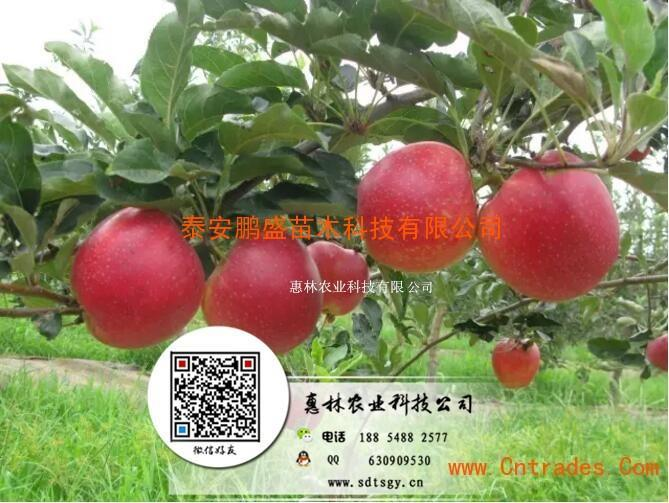apple: (474, 160, 620, 303), (67, 206, 206, 349), (200, 234, 345, 355), (357, 140, 482, 274), (489, 336, 539, 389)
